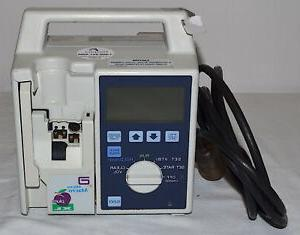plumxl1: (12, 7, 198, 217)
